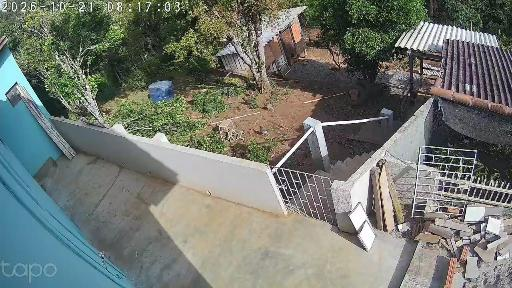galinha: (259, 125, 269, 136), (264, 102, 274, 112), (242, 97, 255, 104)
